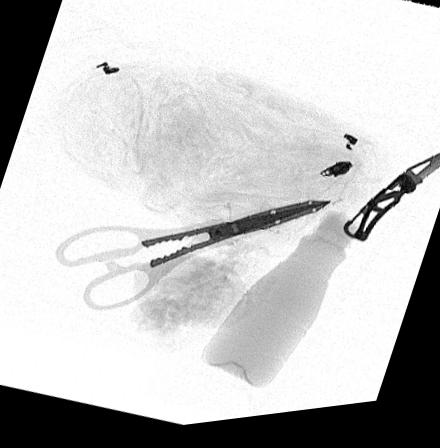Knife: (341, 165, 440, 252)
Scissors: (56, 208, 330, 314)
